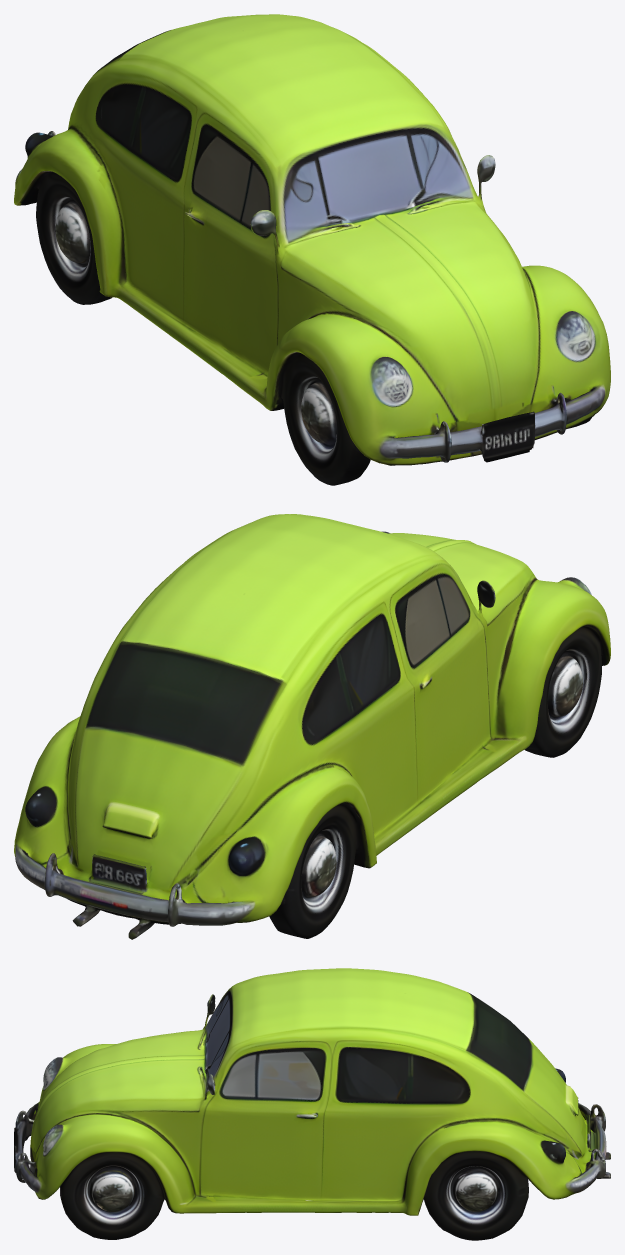
The model's file is classic_volkswagen_beetle.glb.
The picture shows the model from 3 angles, top to bottom: view 1: azimuth 30°, elevation 25°; view 2: azimuth 150°, elevation 25°; view 3: azimuth 270°, elevation 25°; orthographic projection. The views are drawn at different scales.
Visible parts, largest first — view 1: Object_2; view 2: Object_2; view 3: Object_2.
Part boxes in pixels (x1,y1,x2,y2): Object_2: [14, 14, 610, 485]; Object_2: [14, 514, 610, 939]; Object_2: [14, 968, 610, 1240].
Bounding box in the file's own units: 0.7402 × 0.7314 × 1.9.
1 material, 1 textured.
